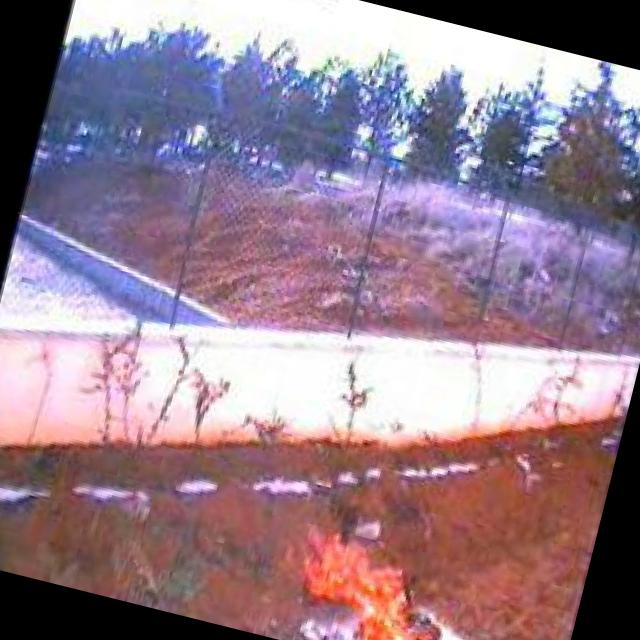Fire: (273, 519, 455, 640)
